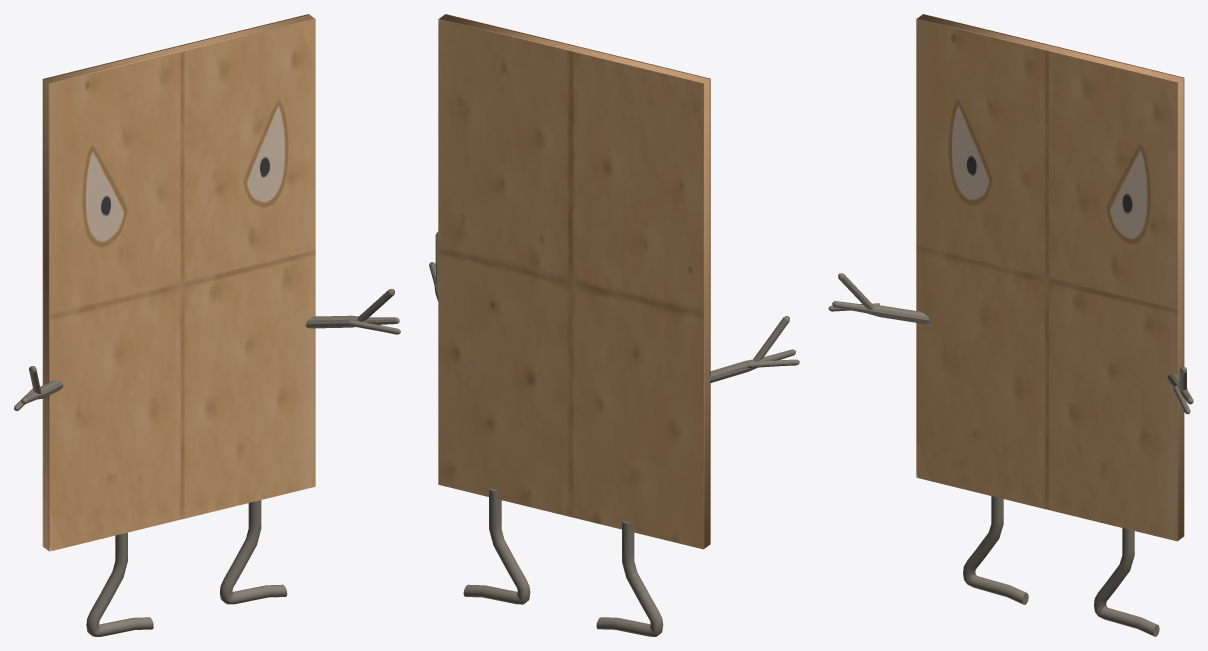
The model's file is Cracker_UV.fbx.
3 views of the same model, side by side, from view 1: azimuth 30°, elevation 25°; view 2: azimuth 150°, elevation 25°; view 3: azimuth 330°, elevation 25° (orthographic).
Parts seen in each view (by area): view 1: Graham, Foot_06, Foot_05, Hand_01; view 2: Graham, Foot_06, Foot_05, Hand_01; view 3: Graham, Foot_05, Foot_06, Hand_01.
Boxes of the visible parts, left/top/right/bottom form: Graham: left=42, top=14, right=315, bottom=551; Foot_06: left=220, top=500, right=287, bottom=604; Foot_05: left=86, top=532, right=153, bottom=636; Hand_01: left=305, top=315, right=399, bottom=328; Graham: left=438, top=14, right=710, bottom=549; Foot_06: left=463, top=488, right=530, bottom=604; Foot_05: left=596, top=521, right=663, bottom=636; Hand_01: left=709, top=349, right=795, bottom=382; Graham: left=916, top=14, right=1184, bottom=541; Foot_05: left=963, top=496, right=1028, bottom=604; Foot_06: left=1094, top=528, right=1159, bottom=636; Hand_01: left=832, top=301, right=929, bottom=324.
Size of the model in its own units: 9.49 by 13.78 by 2.
Materials: 2 (1 with a texture image).
